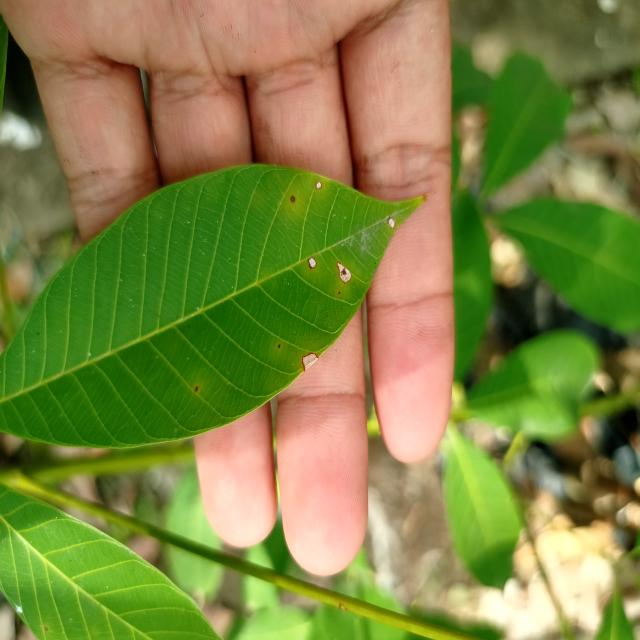Colletotrichum: (336, 262, 352, 284), (308, 257, 318, 269), (388, 217, 395, 229), (315, 181, 322, 190), (290, 196, 296, 203), (45, 627, 48, 631)
Leaf-Blight: (303, 354, 318, 369)
